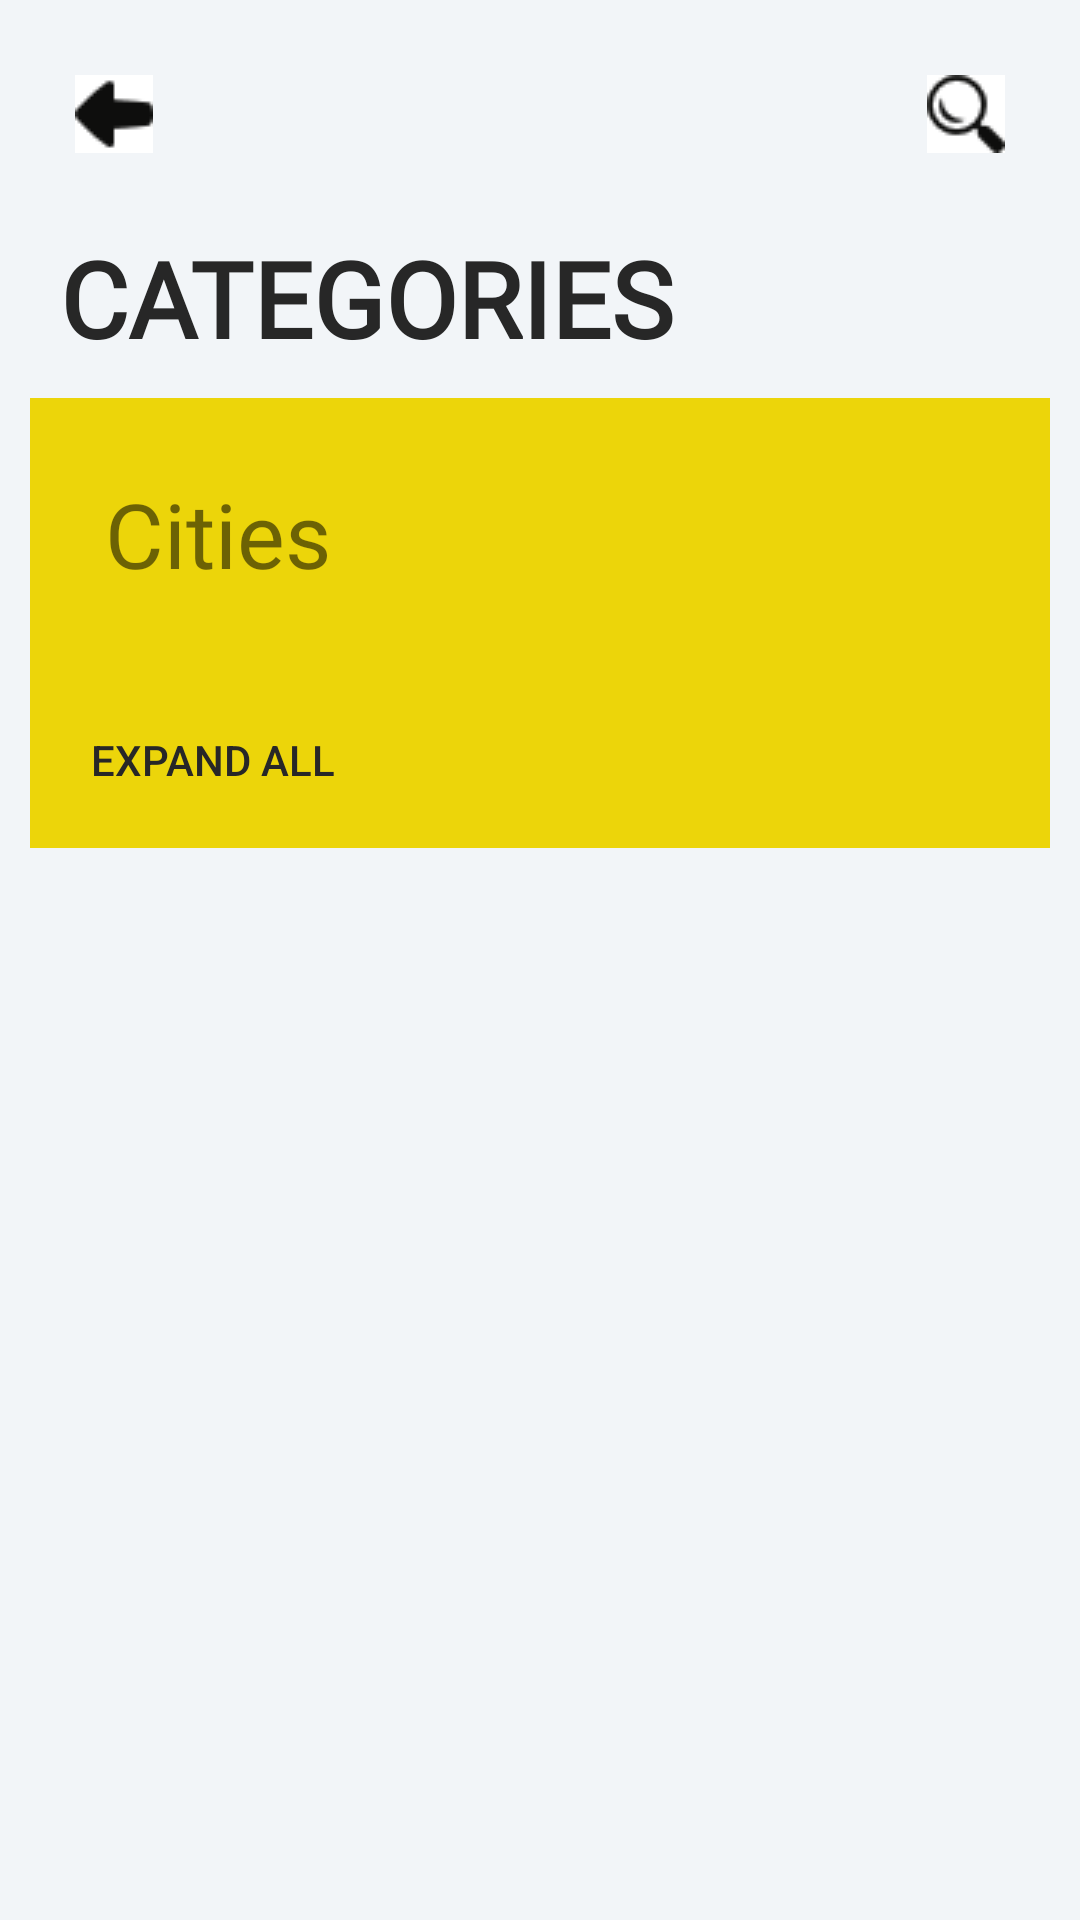

Named icons in this screenshot (1080px x 1920px) and their bounding boxes, (x1, y1, x2, y2):
left: (75, 80, 153, 148)
search: (927, 75, 1005, 153)
